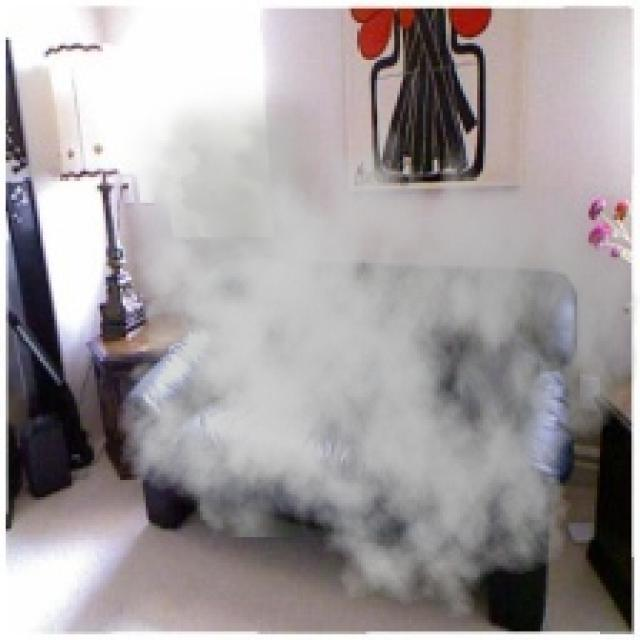Smoke: (100, 77, 637, 623)
